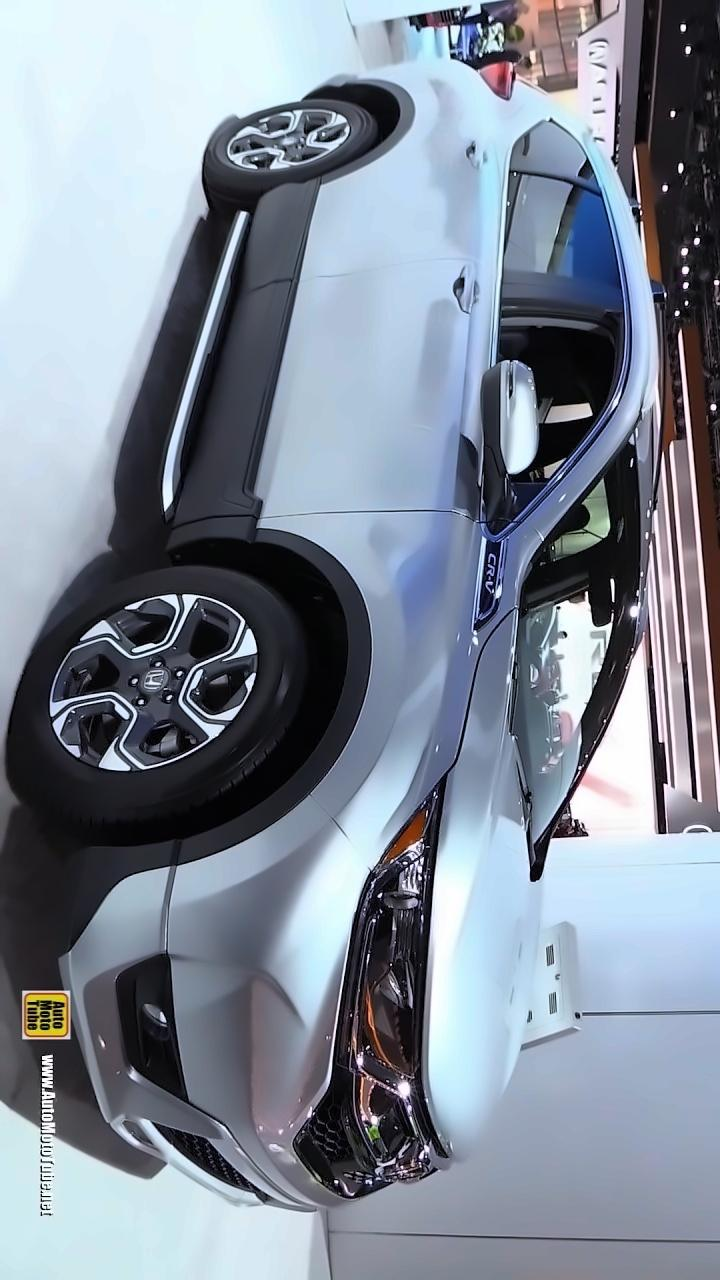Car hood: (408, 600, 550, 1167)
Driver-s door - -F-R-: (160, 254, 689, 531), (154, 480, 520, 876)
Fender - -R-R-: (294, 69, 570, 206)
Front bumper: (26, 804, 376, 1221)
Headlight - -R-: (336, 764, 445, 1098)
Passenger-s door - -R-R-: (184, 128, 676, 327)
Rear bumper: (299, 42, 445, 101)
Rear light - -R-: (477, 50, 516, 106)
Side bumper - -R-: (138, 170, 337, 558)
Side mirror - -R-: (474, 360, 552, 522)
